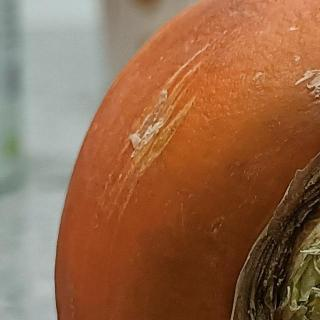carrot: (48, 0, 320, 320)
